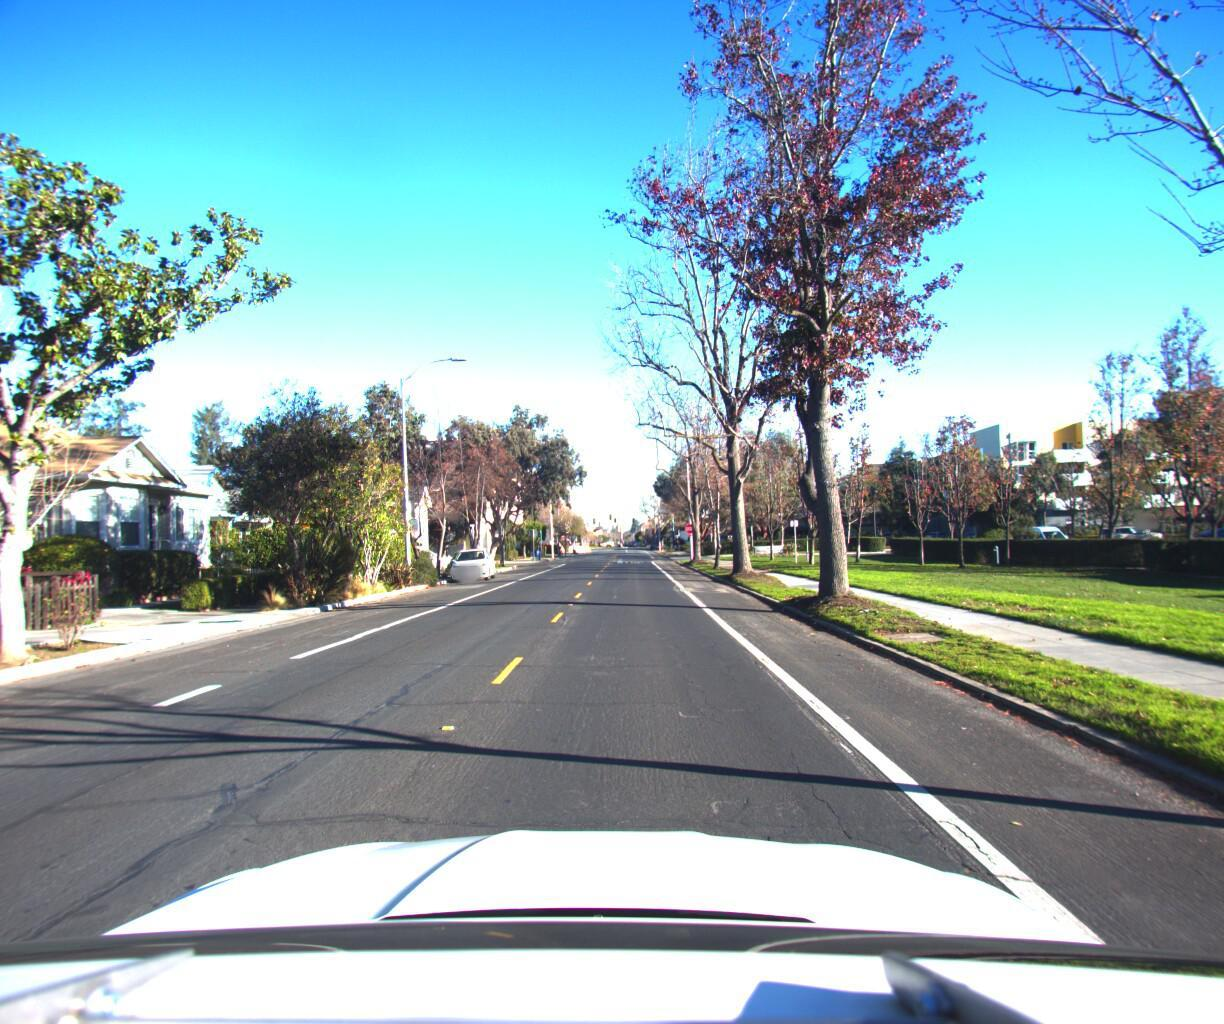car: (447, 544, 496, 581)
